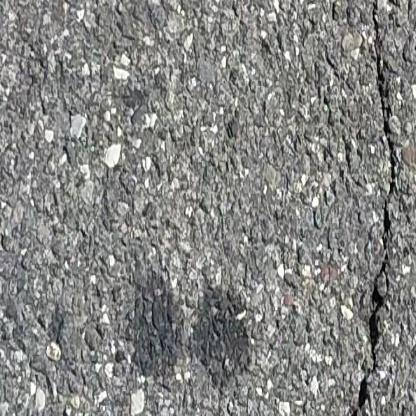Cracks: (347, 203, 396, 416), (369, 0, 400, 200)
